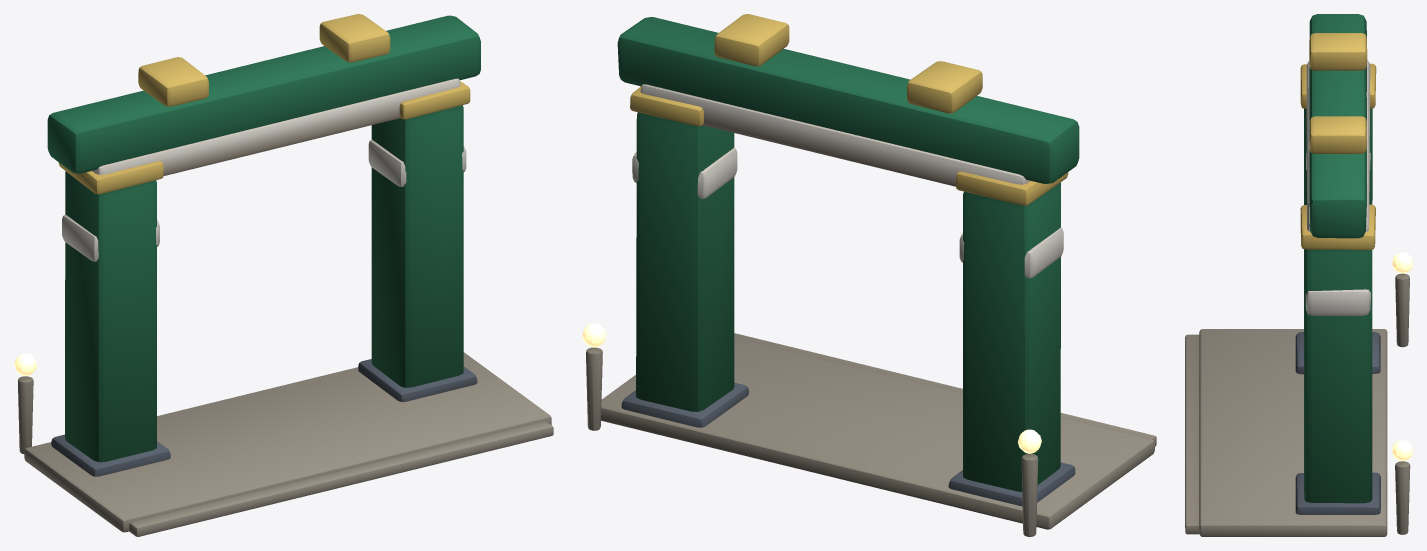
The picture shows the model from 3 angles, left to right: view 1: azimuth 30°, elevation 25°; view 2: azimuth 150°, elevation 25°; view 3: azimuth 270°, elevation 25°; orthographic projection. The views are drawn at different scales.
Parts seen in each view (by area): view 1: gate_16b18bb9; view 2: gate_16b18bb9; view 3: gate_16b18bb9.
Boxes of the visible parts, x1,y1,x2,y2 form: gate_16b18bb9: [14, 14, 553, 536]; gate_16b18bb9: [582, 14, 1156, 536]; gate_16b18bb9: [1185, 14, 1412, 536].
Bounding box in the file's own units: 5.22 × 4.4 × 2.54.
